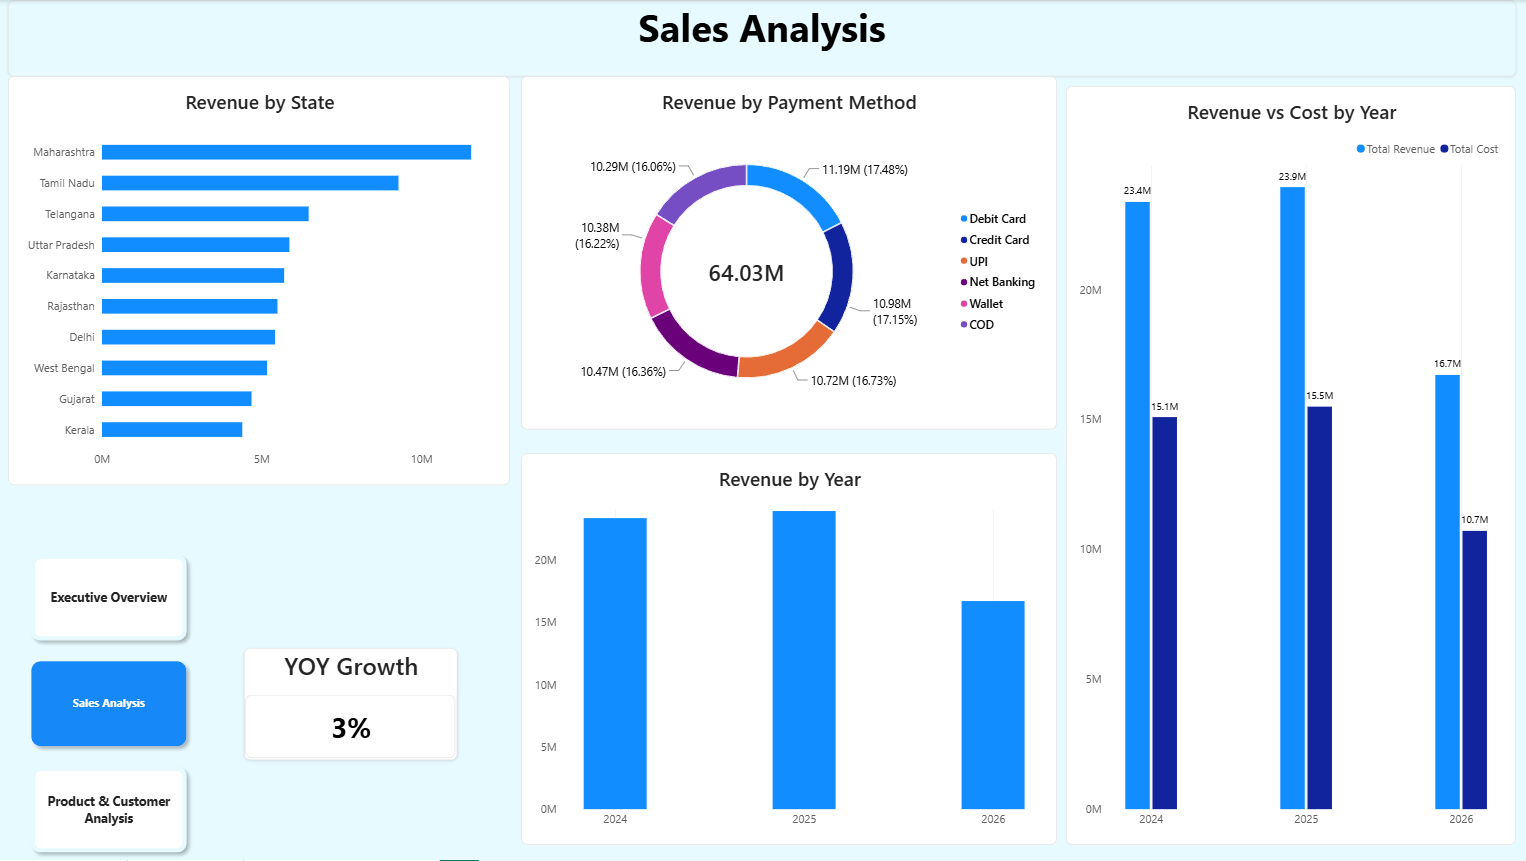

This screenshot's page, from the dashboard's own definition file:
{"tool":"powerbi","page":{"name":"Sales Analysis","canvas":[1920,1080],"ordinal":1},"visuals":[{"type":"textbox","box":[10.5,0,1893.9,95.8],"z":0},{"type":"clusteredColumnChart","title":"Revenue by Year","fields":{"Category":["DateTable.Year"],"Y":["fact_orders.Revenue"]},"box":[654.3,568.9,673.1,492.3],"z":1000},{"type":"clusteredBarChart","title":"Revenue by State","fields":{"Category":["dim_customers.state"],"Y":["fact_orders.Revenue"]},"box":[10,95.4,630.4,513.6],"z":2000},{"type":"donutChart","title":"Revenue by Payment Method","fields":{"Y":["fact_orders.Revenue"],"Category":["dim_payments.payment_method"]},"box":[654.3,95.4,672.5,444.3],"z":3000},{"type":"cardVisual","title":"YOY Growth","fields":{"Data":["fact_orders.Yoy Growth %"]},"box":[306.4,813.8,267.6,140.6],"z":4000},{"type":"clusteredColumnChart","title":"Revenue vs Cost by Year","fields":{"Y":["fact_orders.Revenue","dim_products.Total Cost"],"Category":["DateTable.Year"]},"box":[1338.7,108,565.1,953.2],"z":5000},{"type":"pageNavigator","box":[30.2,687.9,213.2,391.6],"z":6000}]}

Visuals, with their boxes in screenshot pixels (x1, y1, x2, y2), scaled from the page's 1920x1080 canvas onto the 1526x861 screenshot:
textbox: <bbox>8, 0, 1514, 76</bbox>
"Revenue by Year" clusteredColumnChart: <bbox>520, 454, 1055, 846</bbox>
"Revenue by State" clusteredBarChart: <bbox>8, 76, 509, 486</bbox>
"Revenue by Payment Method" donutChart: <bbox>520, 76, 1055, 430</bbox>
"YOY Growth" cardVisual: <bbox>244, 649, 456, 761</bbox>
"Revenue vs Cost by Year" clusteredColumnChart: <bbox>1064, 86, 1513, 846</bbox>
pageNavigator: <bbox>24, 548, 193, 860</bbox>
